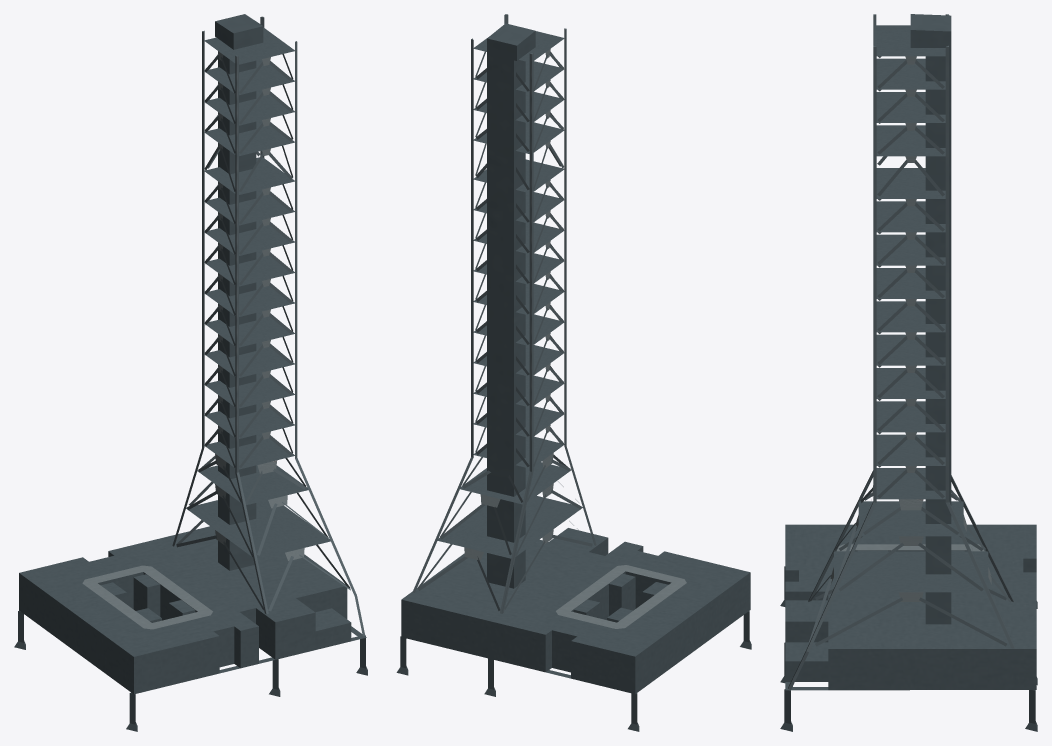
3 renders of one model, left to right at view 1: azimuth 30°, elevation 25°; view 2: azimuth 150°, elevation 25°; view 3: azimuth 270°, elevation 25°, orthographic. The views are drawn at different scales.
Visible parts, largest first — view 1: ML_LP; view 2: ML_LP; view 3: ML_LP.
Part boxes in pixels (x1,y1,x2,y2): ML_LP: (14,14,367,731); ML_LP: (396,14,751,731); ML_LP: (780,14,1037,731).
Bounding box in the file's own units: 10.11 × 24.64 × 8.53.
1 material, 1 textured.
